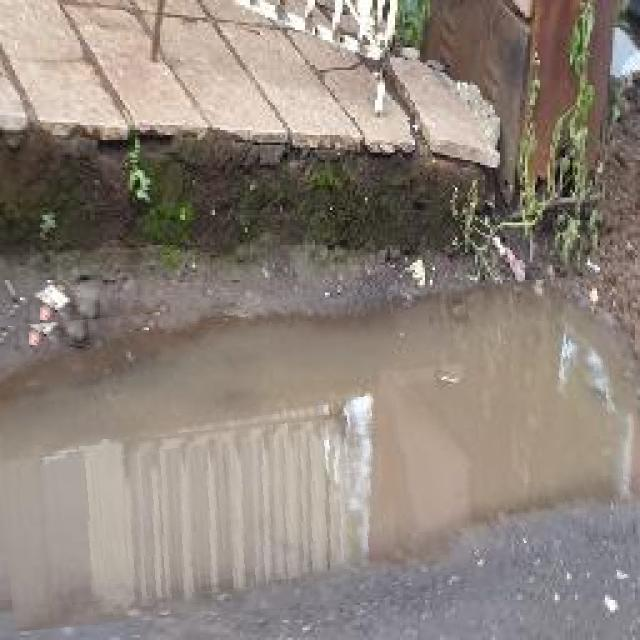puddle: (1, 286, 640, 618)
